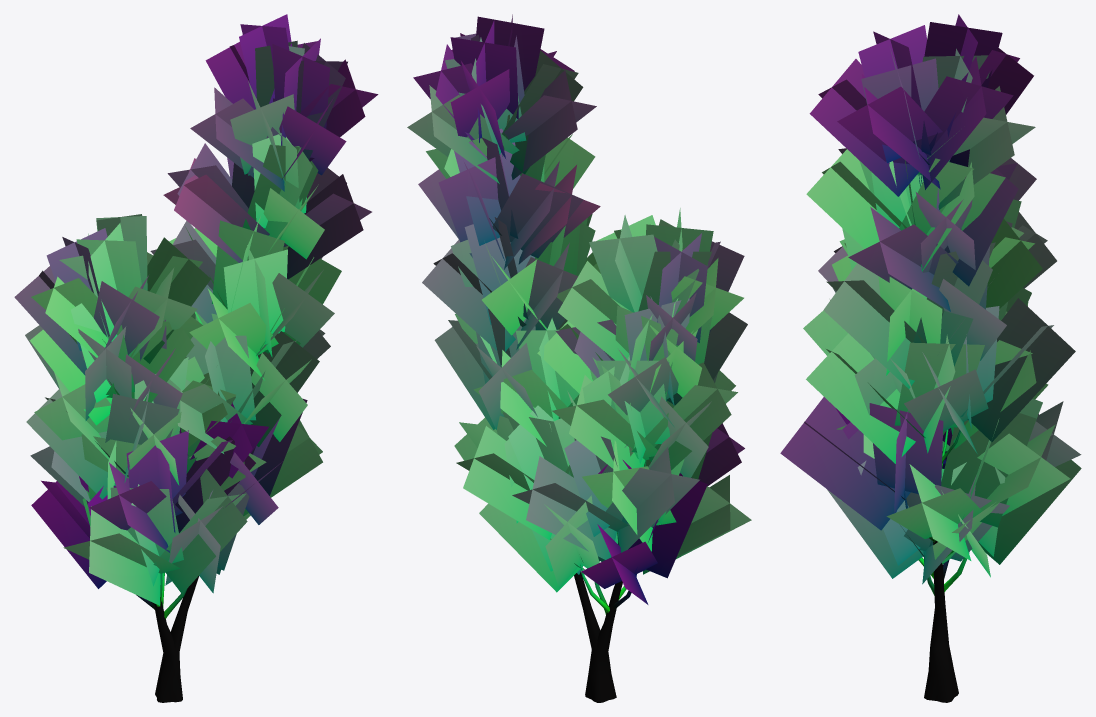
The model's file is Tree_9_9.fbx.
The picture shows the model from 3 angles, left to right: view 1: azimuth 30°, elevation 25°; view 2: azimuth 150°, elevation 25°; view 3: azimuth 270°, elevation 25°; orthographic projection. The views are drawn at different scales.
Parts seen in each view (by area): view 1: _9; view 2: _9; view 3: _9.
Part boxes in pixels (x1,y1,x2,y2): _9: (14, 14, 378, 702); _9: (407, 14, 751, 702); _9: (780, 14, 1081, 702).
Bounding box in the file's own units: 959 × 1884 × 700.
